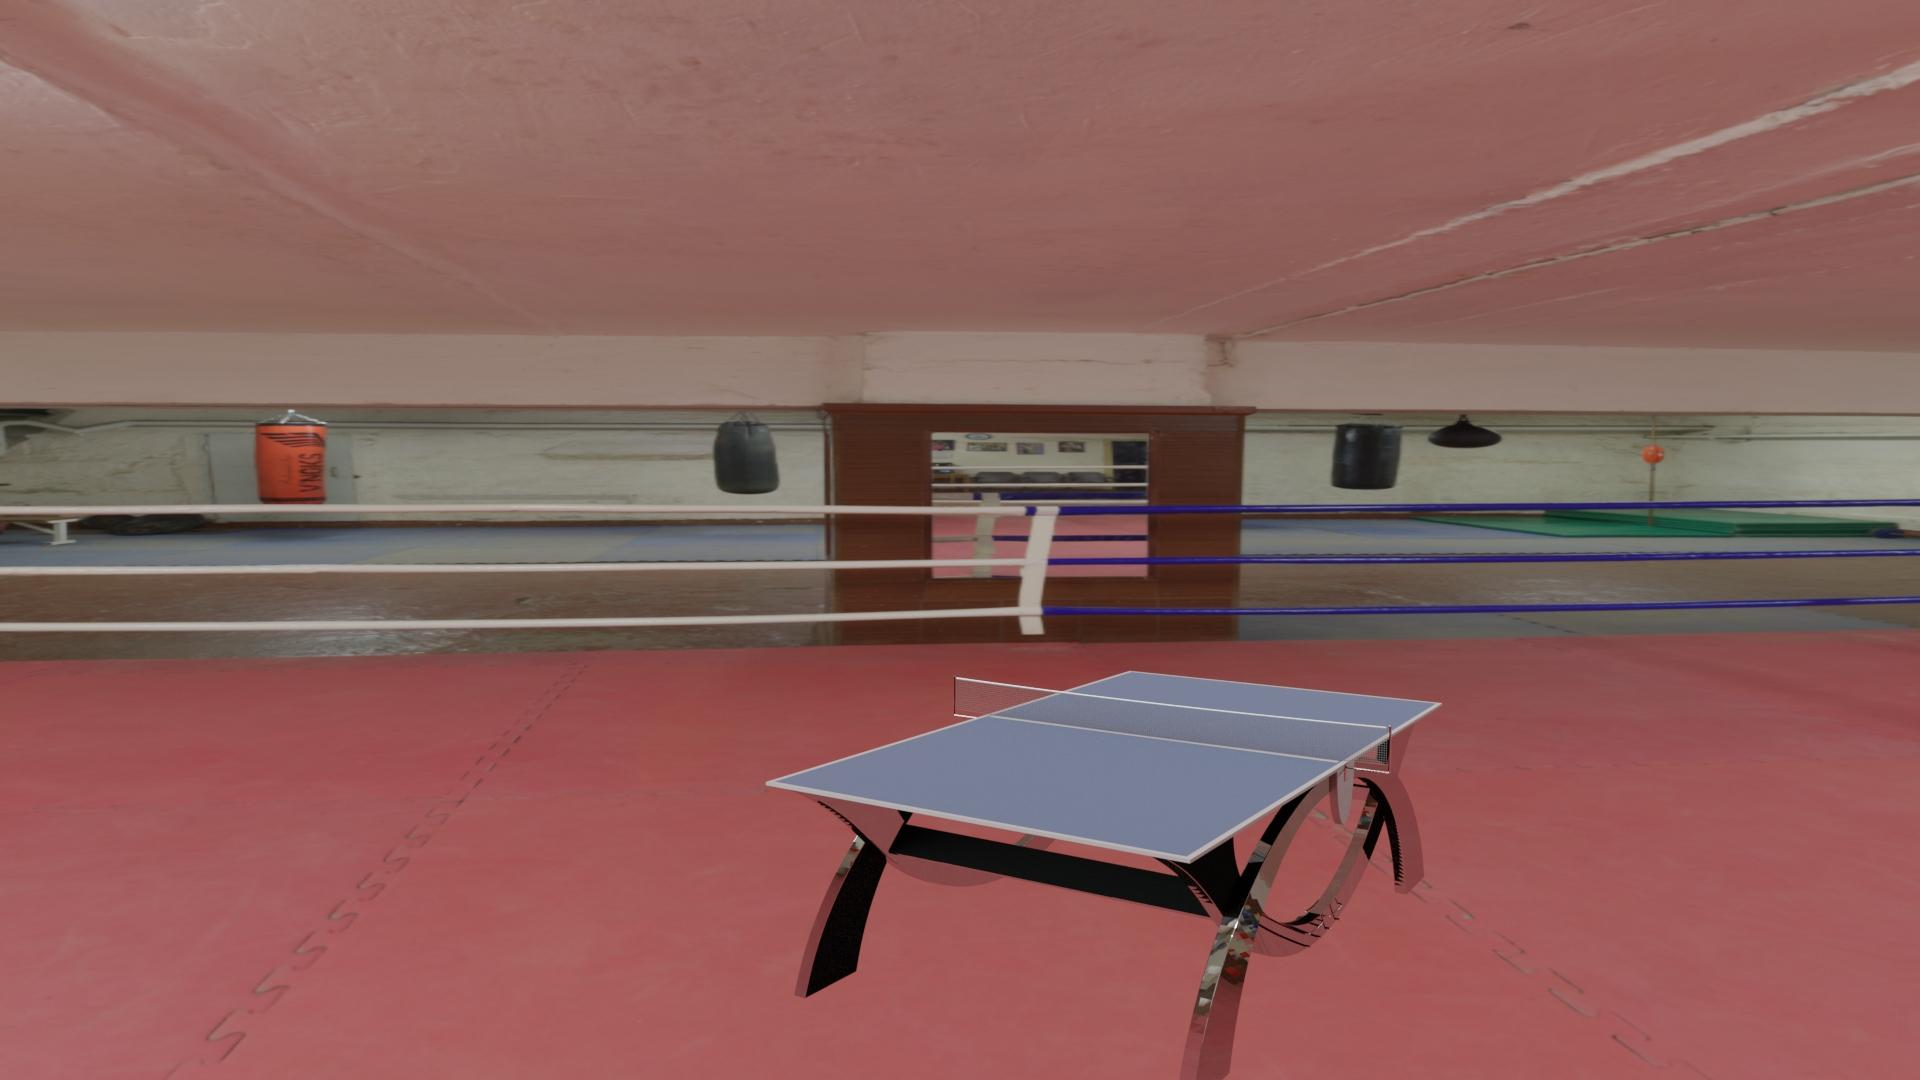table: (774, 673, 1436, 857)
